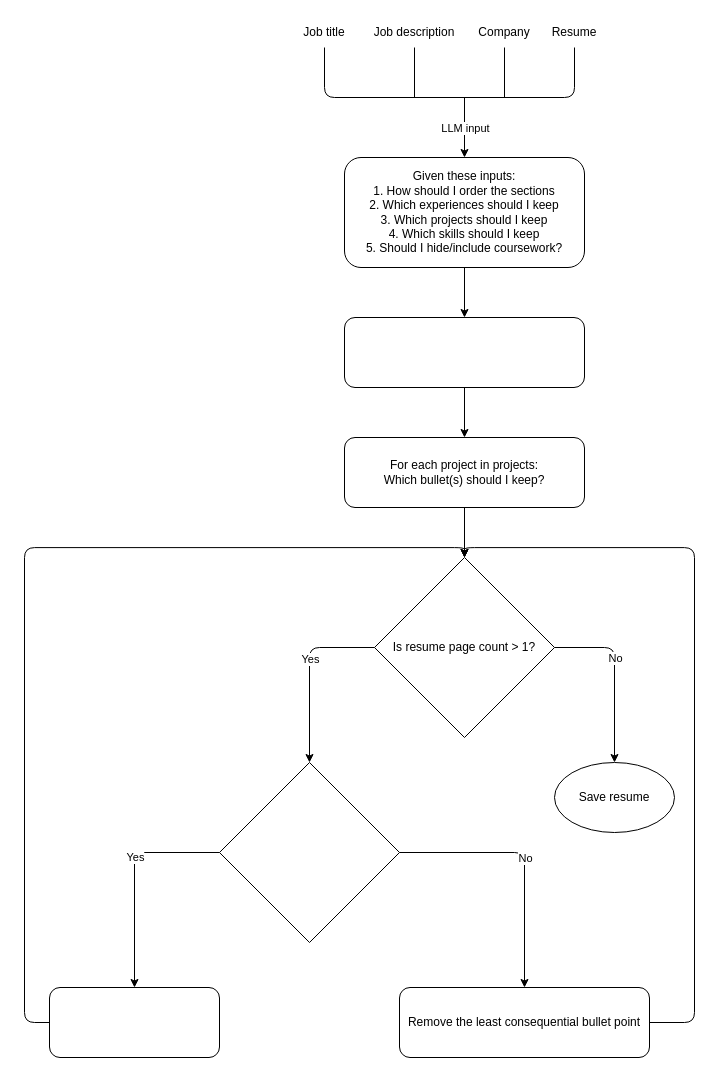
Some shapes in this 720 by 1075 pixel diagram are drawn without their labels. The box of each missing label's shape, as (x1, y1, x2, y2) in pixels:
Are there bullet point(s) that are 2+ lines?: (218, 762, 400, 942)
For each experience in experiences: Which bullet(s) should I keep?: (344, 316, 584, 388)
Rewrite so it uses less lines: (48, 986, 220, 1058)
